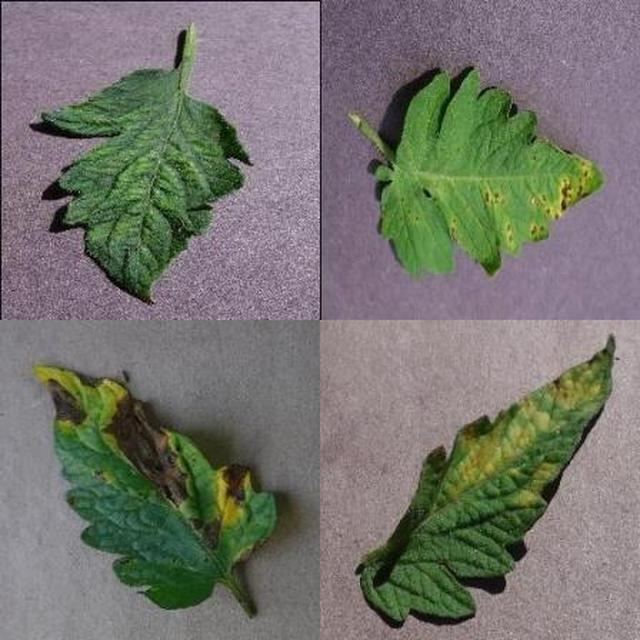Mosaic Virus Leaf: (207, 244, 640, 640)
